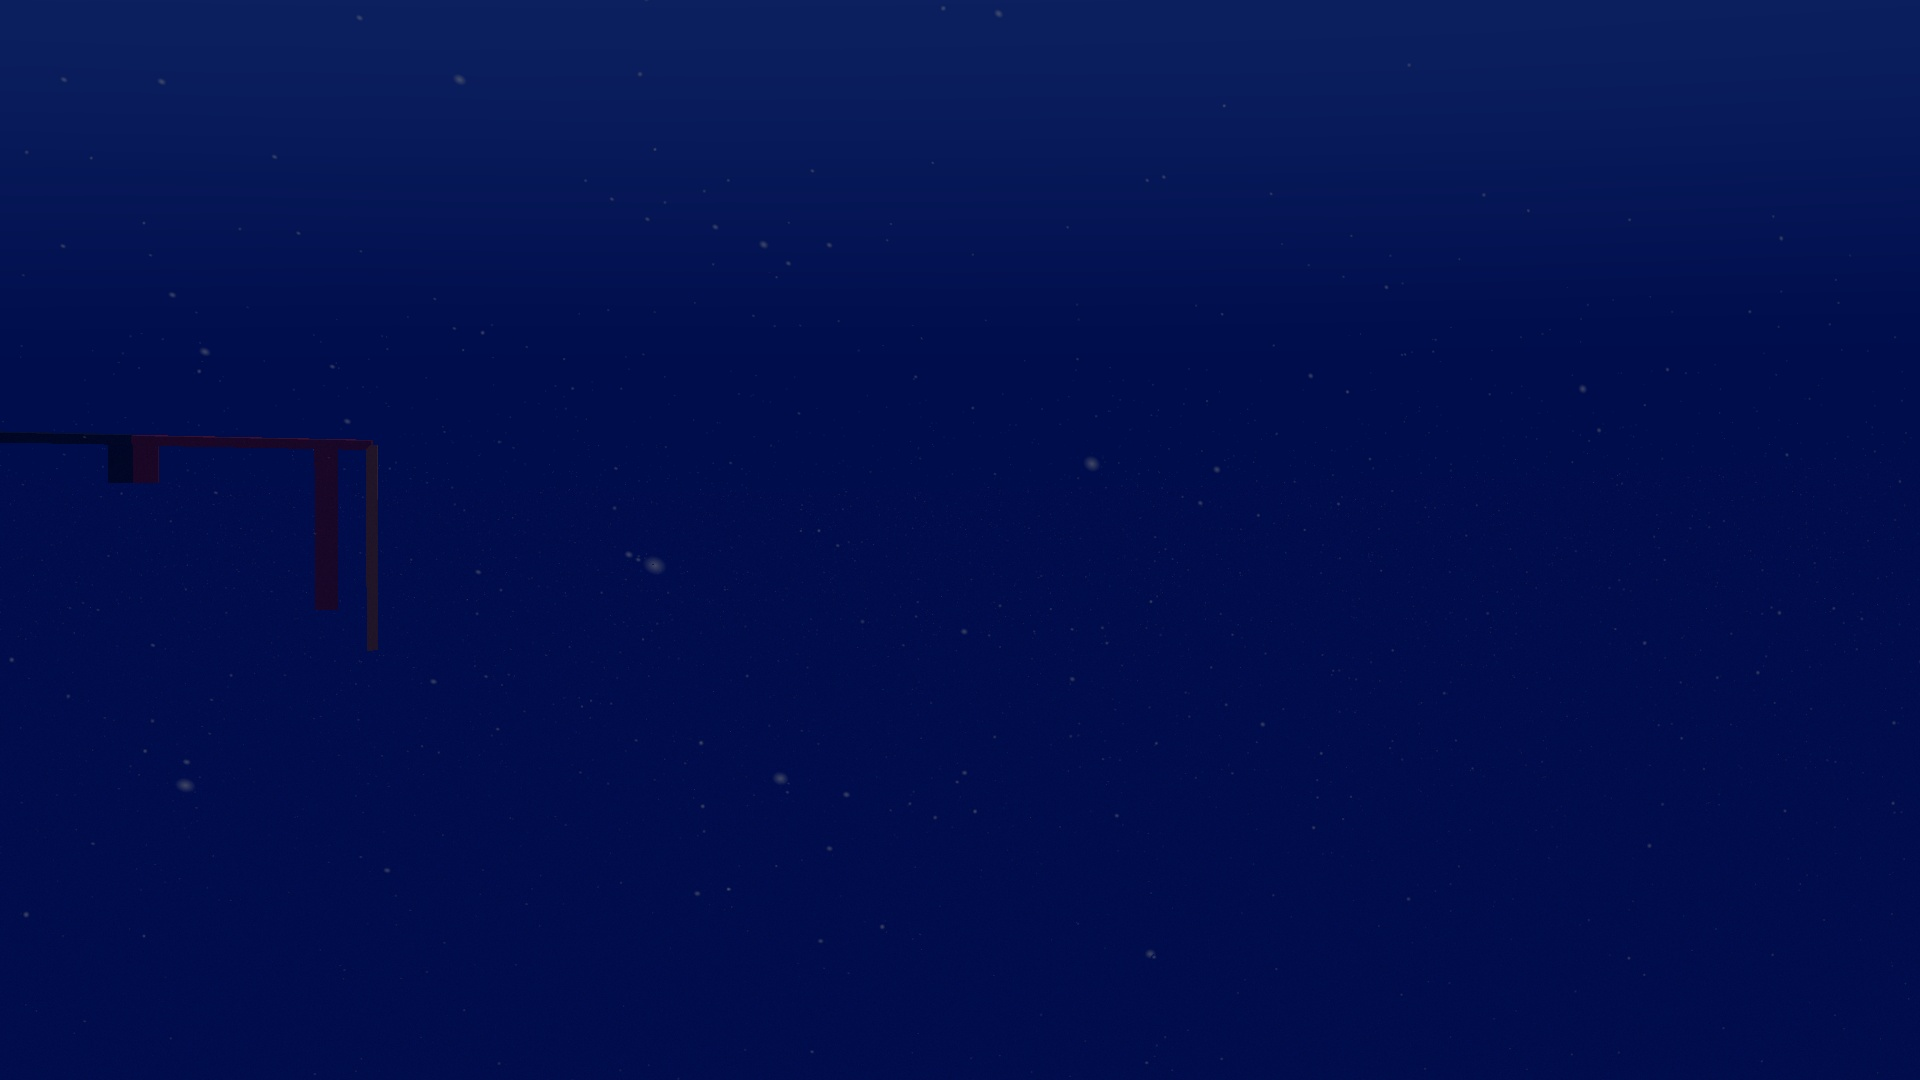Gate: (1, 425, 386, 661)
